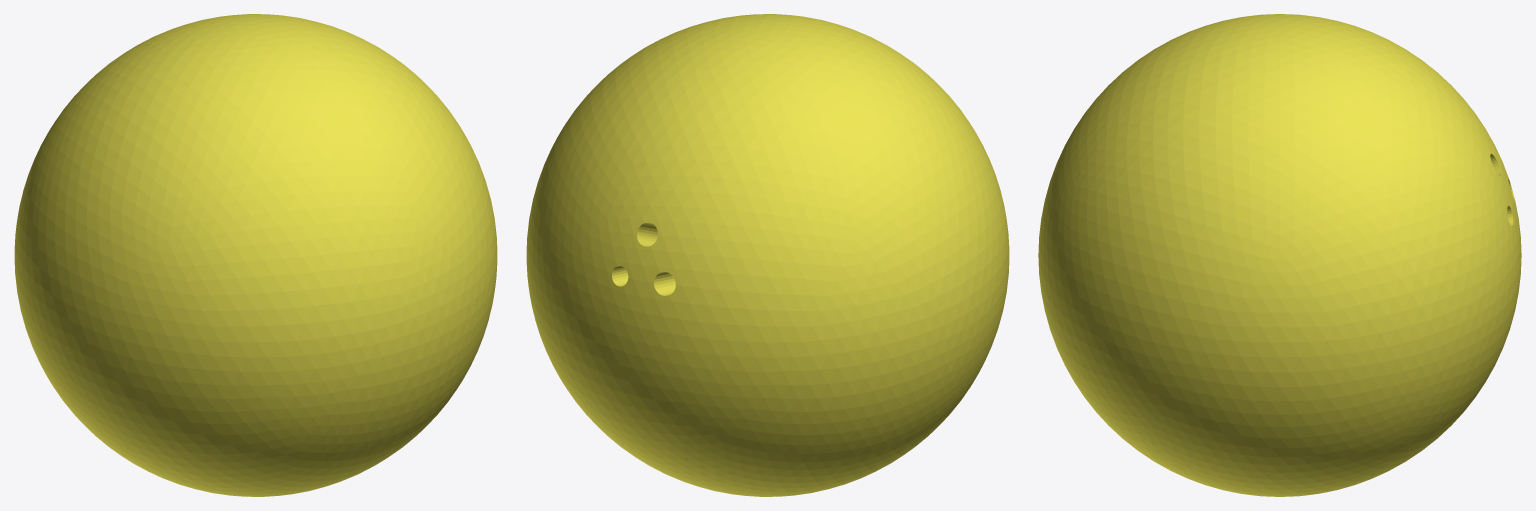
File: bowlingBall.fbx
3 views of the same model, side by side, from view 1: azimuth 30°, elevation 25°; view 2: azimuth 150°, elevation 25°; view 3: azimuth 270°, elevation 25° (orthographic).
Parts seen in each view (by area): view 1: Bowlingball; view 2: Bowlingball; view 3: Bowlingball.
Part boxes in pixels (x1,y1,x2,y2): Bowlingball: (14,14,497,496); Bowlingball: (526,14,1009,496); Bowlingball: (1038,14,1521,496).
Bounding box in the file's own units: 22 × 22 × 22.
